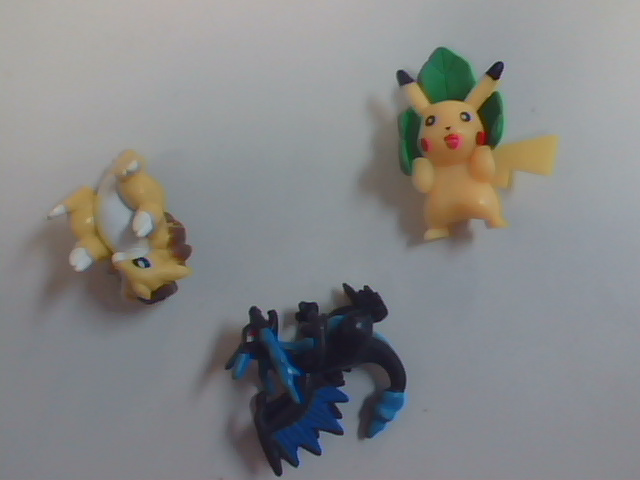charizard: (225, 286, 451, 480)
pikachu: (359, 51, 563, 258)
sandslash: (33, 141, 215, 336)
